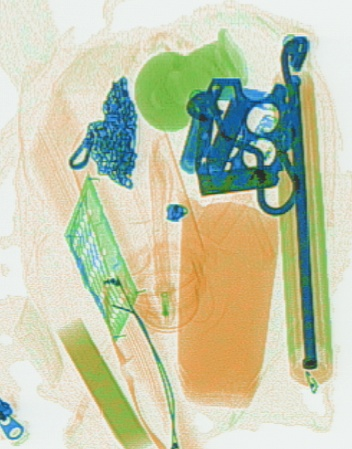slingshot: (186, 33, 311, 216)
